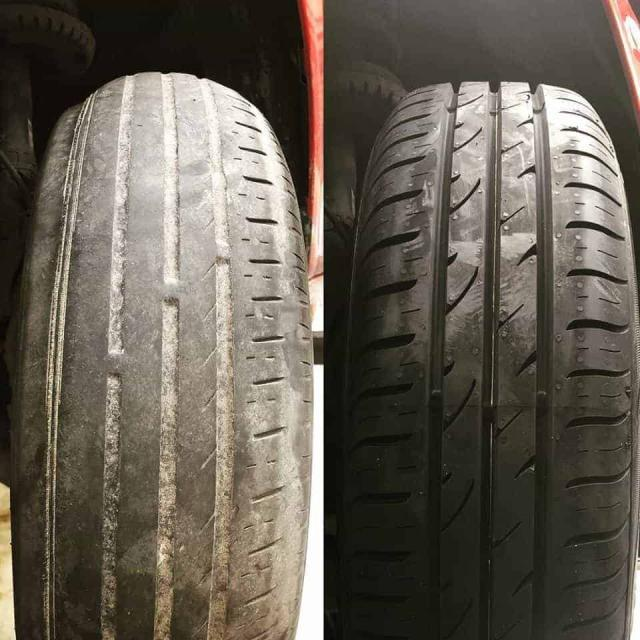Flat spots: (44, 121, 272, 639)
Non-defective: (374, 110, 619, 639)
